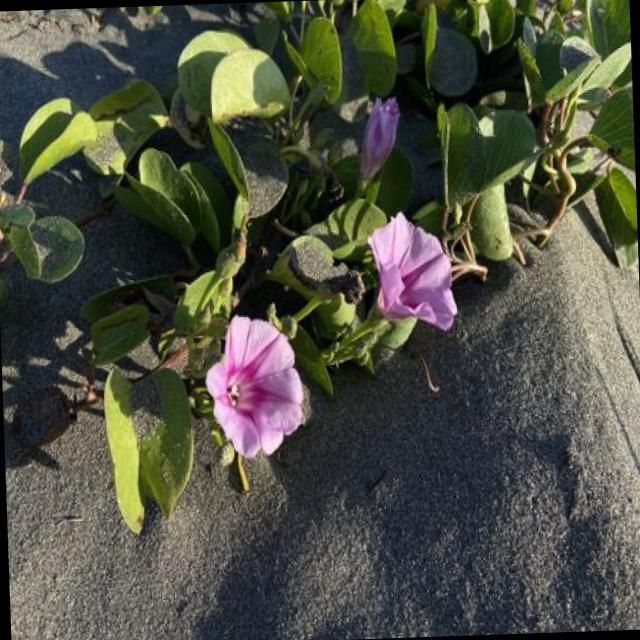ipomoea: (198, 308, 310, 467), (362, 207, 462, 340), (350, 89, 406, 190)
